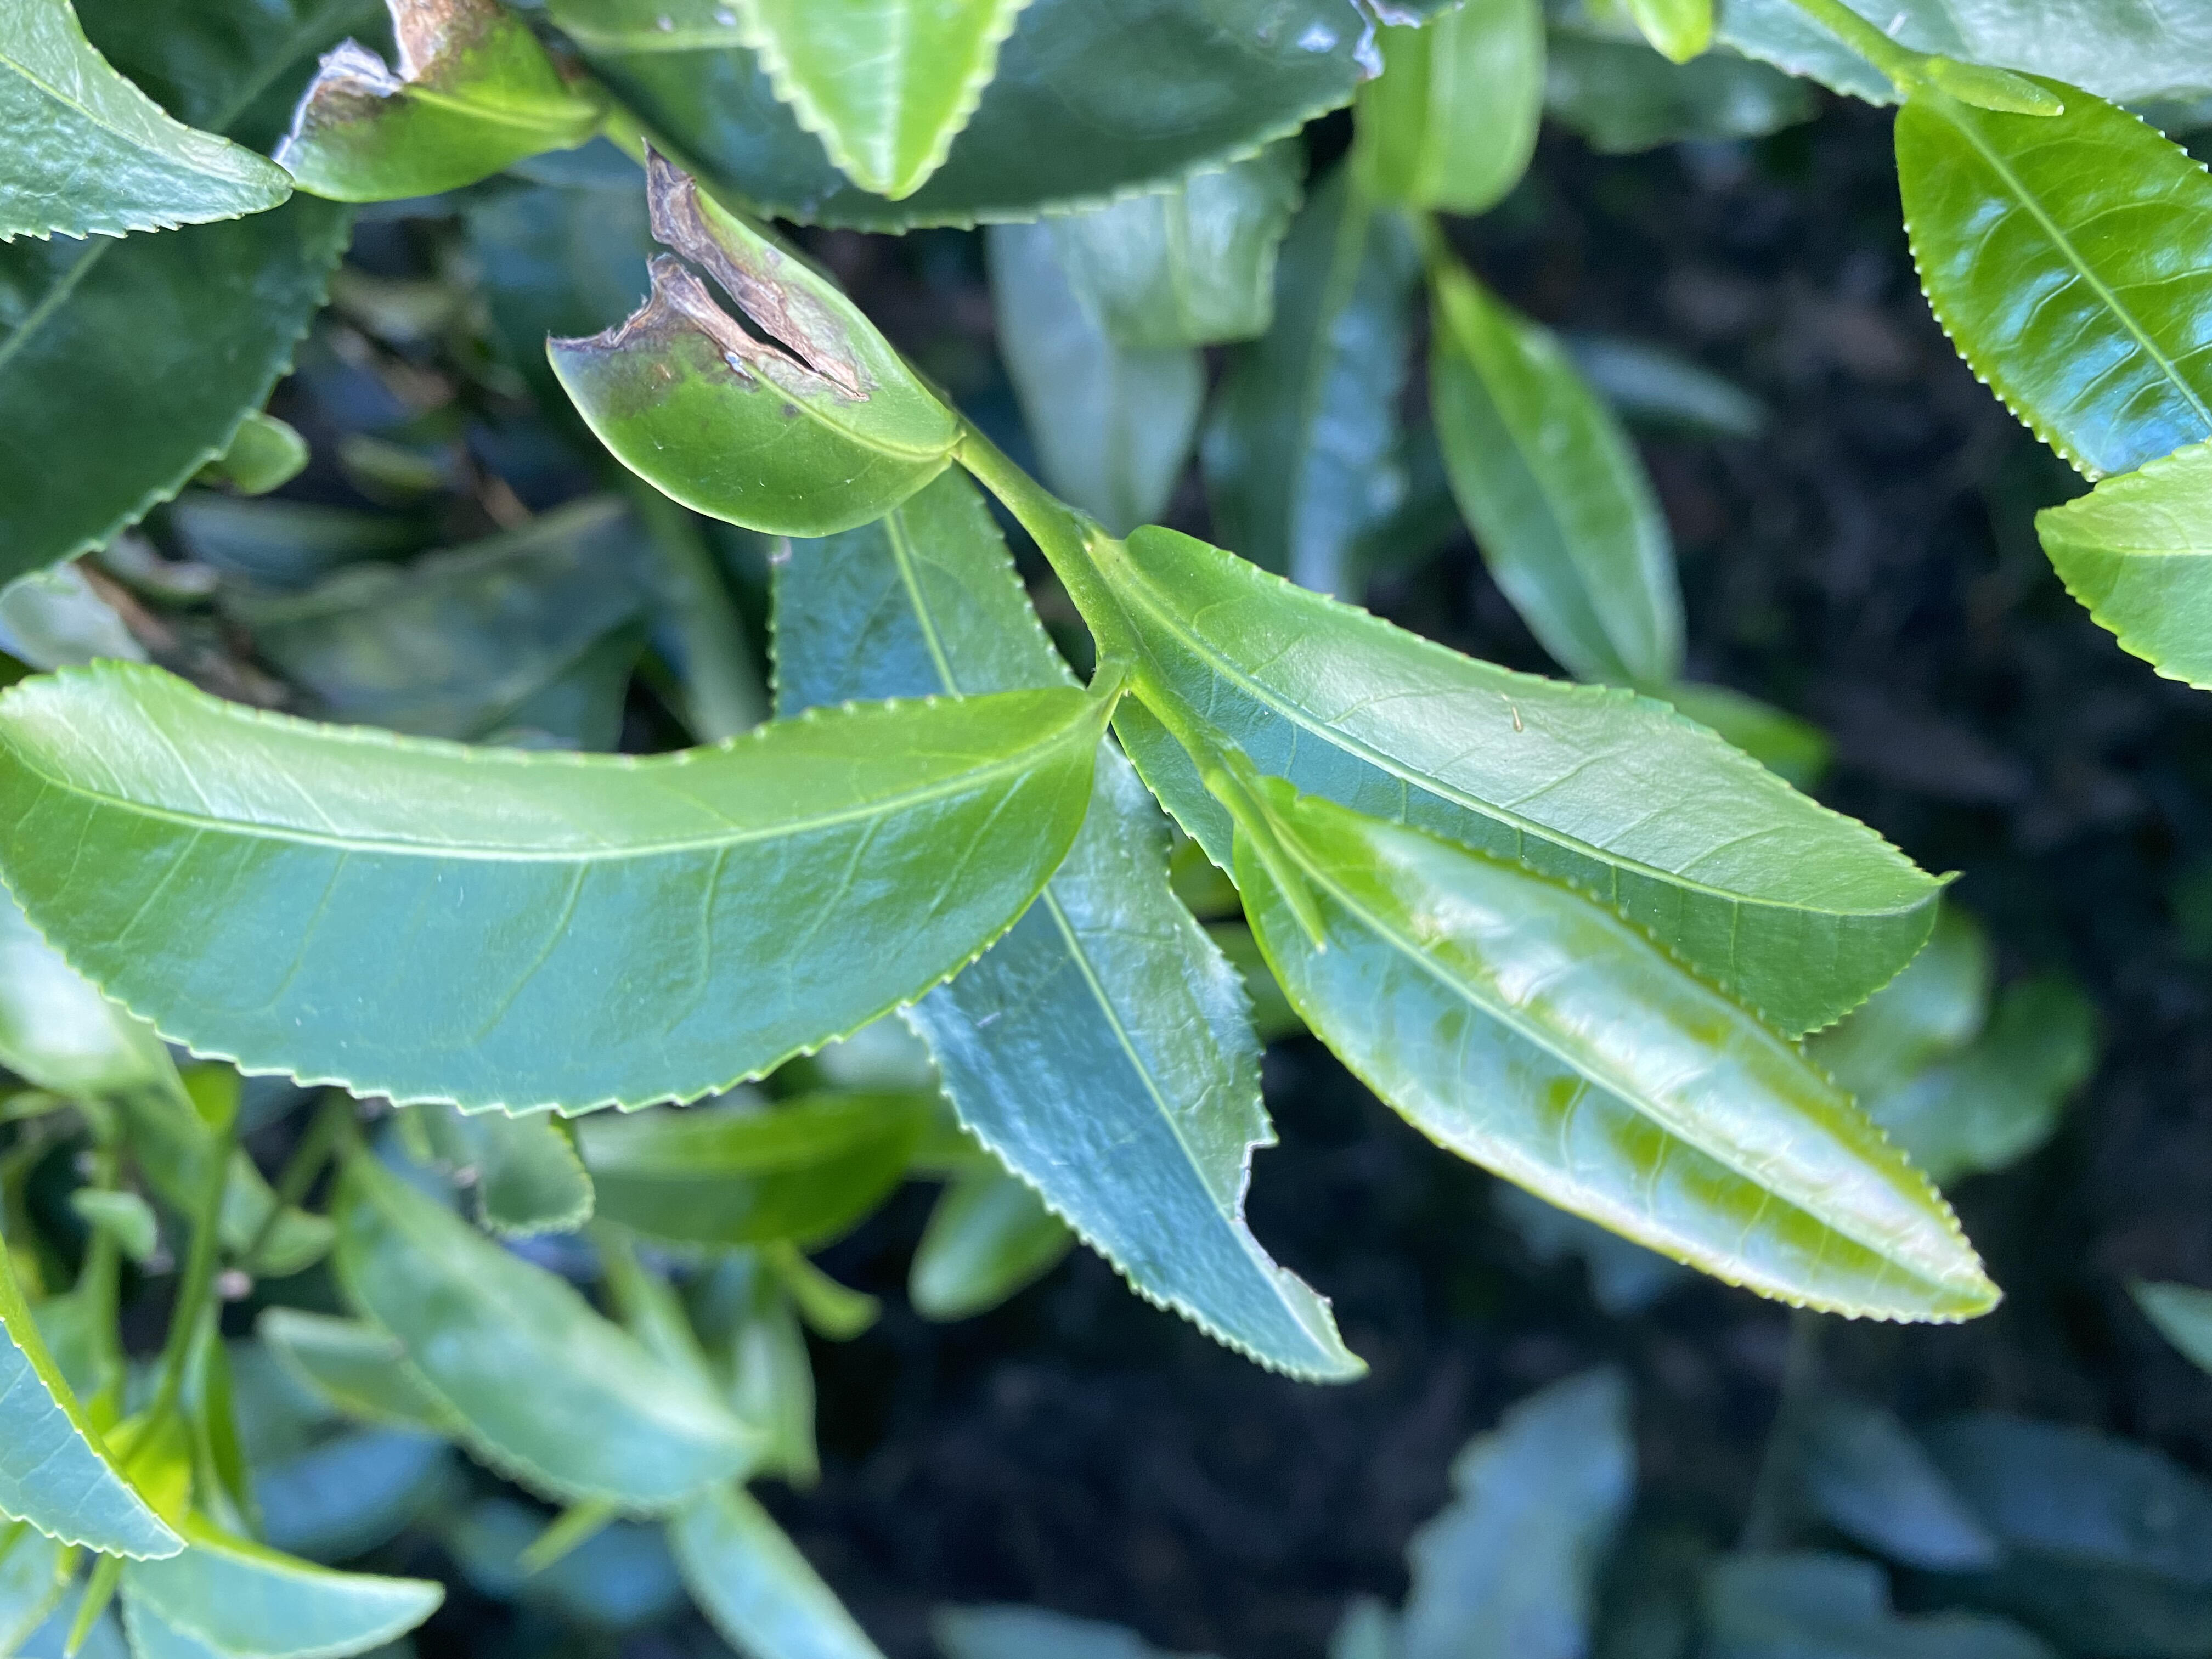chihuo_low: (759, 465, 1372, 1387)
healthy: (2, 655, 1108, 1121), (1228, 786, 2003, 1328), (1892, 68, 2209, 481)
